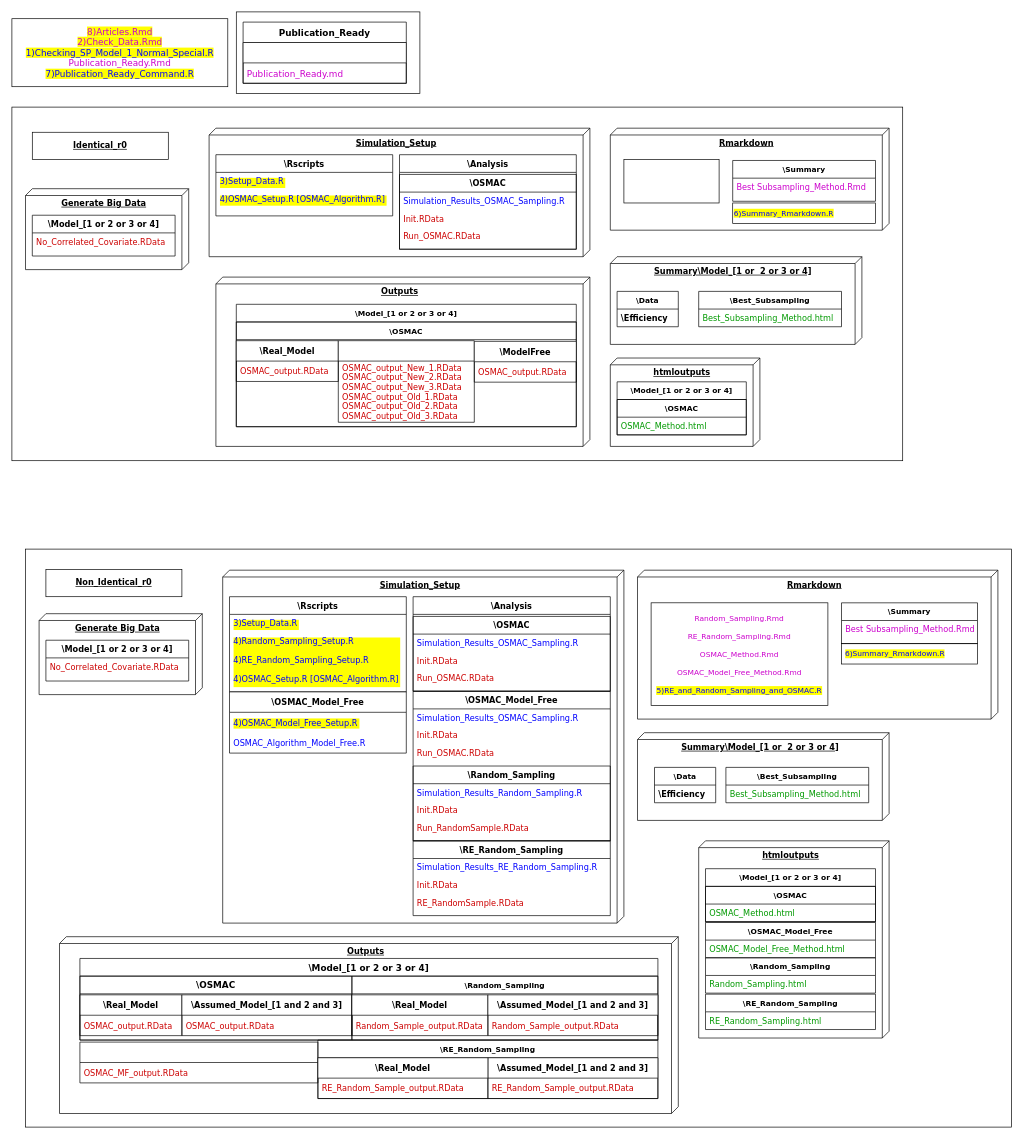
This 1023x1139 diagram has some shape labels left out. Each missing label, with the box of its shape:
\Assumed_Model: (338, 340, 474, 422)
\Model_[1 and 2 and 3 and 4]: (242, 42, 406, 83)
\OSMAC_ModelFree: (79, 1041, 318, 1083)
OSMAC_Method.Rmd 5)OSMAC_Command.R: (623, 159, 719, 203)
